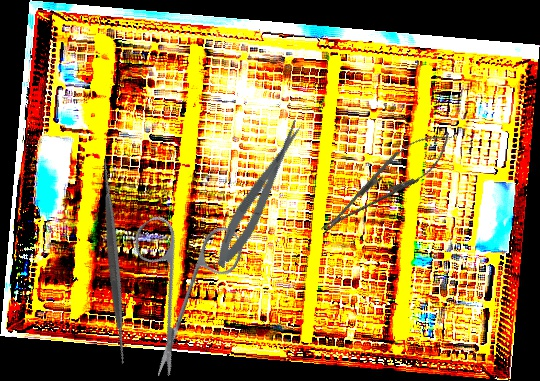Iris Scissors: (83, 184, 281, 381)
Micro Scissor: (207, 116, 313, 273)
Needle Holder: (310, 119, 462, 246)
Spatula Surgical: (0, 147, 228, 375)
